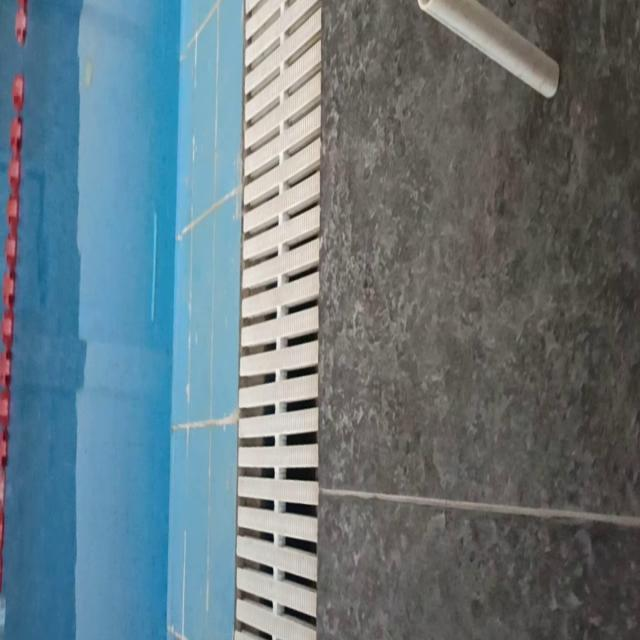Cube: (417, 0, 560, 100)
